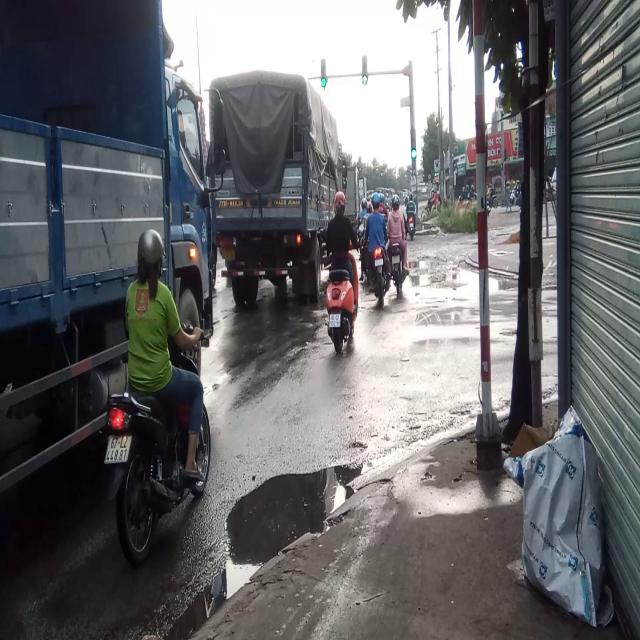bien_trang: (101, 431, 132, 464)
